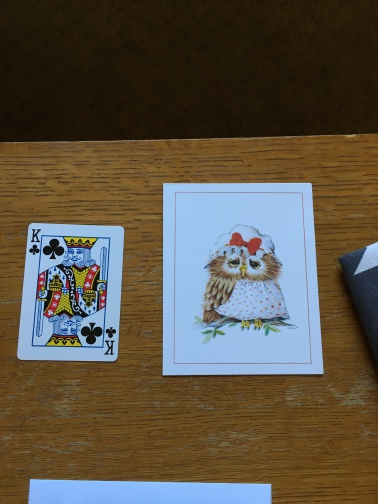king: (18, 220, 123, 364)
